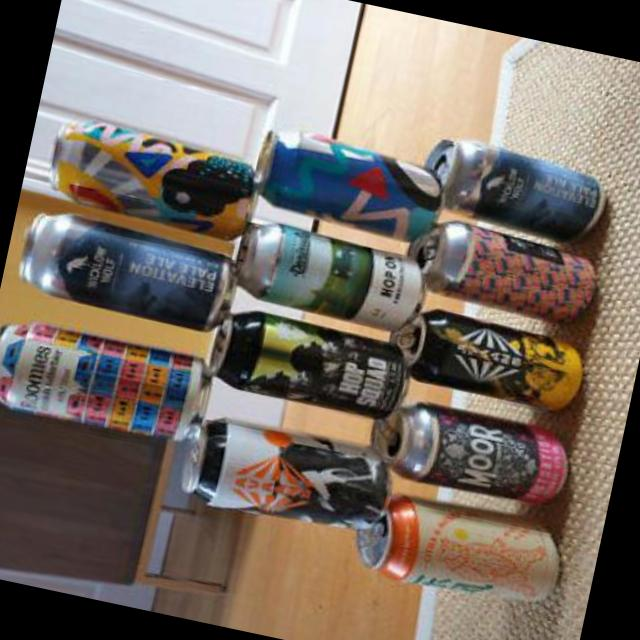metal: (20, 213, 228, 329), (50, 122, 252, 239), (0, 324, 201, 439), (182, 421, 387, 527), (356, 496, 559, 601), (207, 311, 406, 418), (236, 223, 422, 329), (373, 403, 567, 503), (255, 133, 439, 238), (397, 309, 582, 410), (409, 221, 594, 322), (425, 140, 604, 241)
